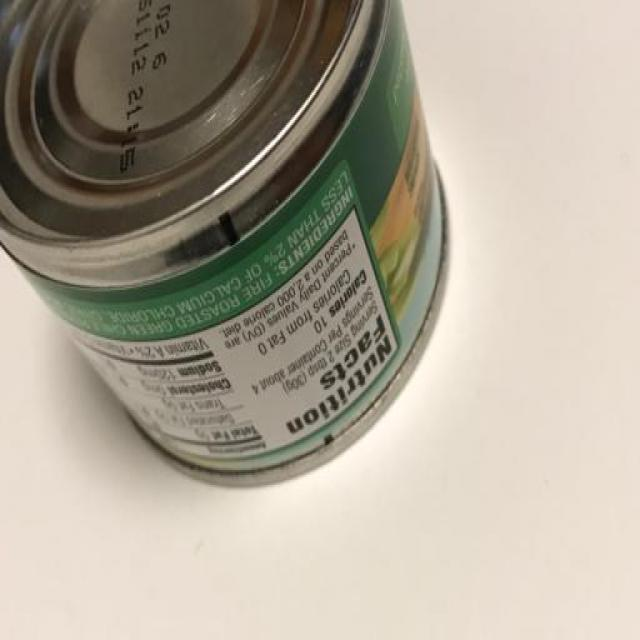metel: (1, 1, 496, 516)
